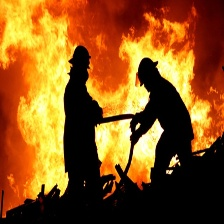fire: (1, 1, 220, 194)
